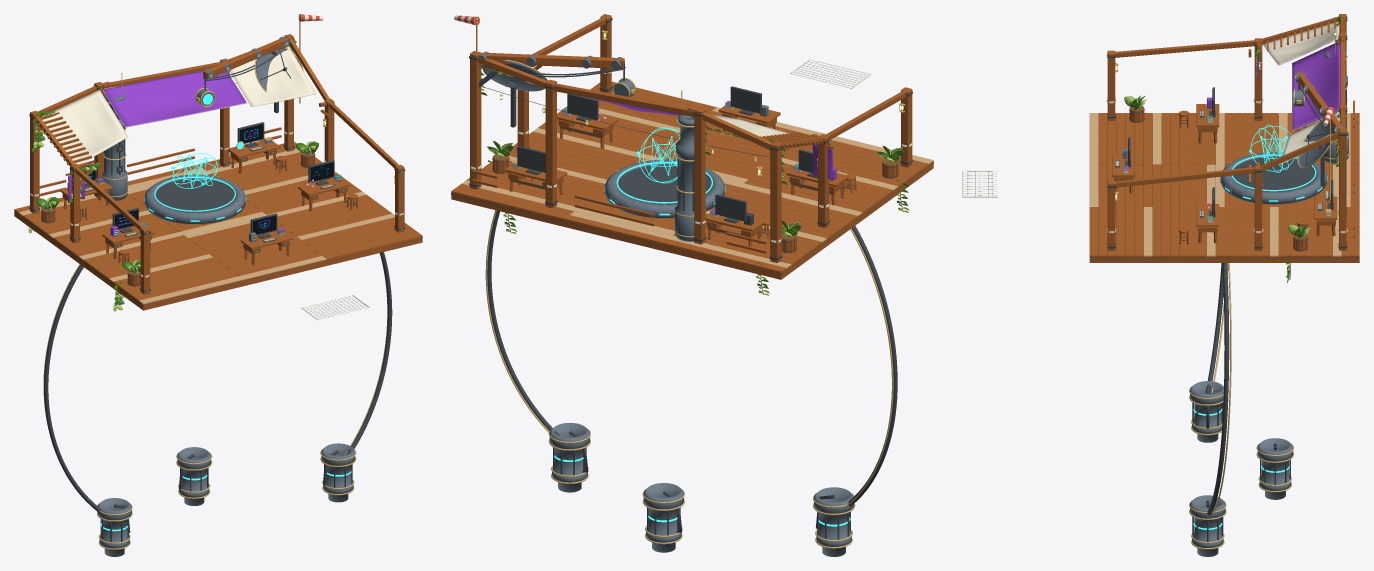
File: suspended-lab-v1-batched.glb
3 renders of one model, left to right at view 1: azimuth 30°, elevation 25°; view 2: azimuth 150°, elevation 25°; view 3: azimuth 270°, elevation 25°, orthographic. The views are drawn at different scales.
Visible parts, largest first — view 1: Batched_35_SuspendedLab_PBR_Honey_Timber, Batched_31_SuspendedLab_PBR_Cream_Linen, Batched_36_SuspendedLab_PBR_Pale_Cut_Timber, Batched_30_SuspendedLab_PBR_Violet_Cloth, Batched_41_SuspendedLab_PBR_Tempered_Silver, Batched_13_SuspendedLab_PBR_Dark_Iron, Batched_37_SuspendedLab_PBR_Dark_Iron, Batched_15_SuspendedLab_PBR_Honey_Timber, Batched_14_SuspendedLab_PBR_Tempered_Silver, Batched_29_SuspendedLab_PBR_Honey_Timber, Batched_34_SuspendedLab_PBR_Brass, Batched_19_SuspendedLab_PBR_Screen_Atlas (+7 smaller); view 2: Batched_35_SuspendedLab_PBR_Honey_Timber, Batched_41_SuspendedLab_PBR_Tempered_Silver, Batched_13_SuspendedLab_PBR_Dark_Iron, Batched_36_SuspendedLab_PBR_Pale_Cut_Timber, Batched_37_SuspendedLab_PBR_Dark_Iron, Batched_14_SuspendedLab_PBR_Tempered_Silver, Batched_15_SuspendedLab_PBR_Honey_Timber, Batched_34_SuspendedLab_PBR_Brass, Batched_29_SuspendedLab_PBR_Honey_Timber, Batched_27_SuspendedLab_PBR_Tempered_Silver, Batched_12_SuspendedLab_PBR_Cyan_Light, Batched_0_SuspendedLab_PBR_Cream_Linen (+6 smaller); view 3: Batched_35_SuspendedLab_PBR_Honey_Timber, Batched_36_SuspendedLab_PBR_Pale_Cut_Timber, Batched_41_SuspendedLab_PBR_Tempered_Silver, Batched_37_SuspendedLab_PBR_Dark_Iron, Batched_15_SuspendedLab_PBR_Honey_Timber, Batched_30_SuspendedLab_PBR_Violet_Cloth, Batched_13_SuspendedLab_PBR_Dark_Iron, Batched_31_SuspendedLab_PBR_Cream_Linen, Batched_14_SuspendedLab_PBR_Tempered_Silver, Batched_39_SuspendedLab_PBR_Dark_Joinery, Batched_34_SuspendedLab_PBR_Brass, Batched_12_SuspendedLab_PBR_Cyan_Light (+3 smaller).
Part boxes in pixels (bbox=[...]): Batched_35_SuspendedLab_PBR_Honey_Timber: bbox=[14, 34, 422, 310]; Batched_31_SuspendedLab_PBR_Cream_Linen: bbox=[42, 14, 323, 164]; Batched_36_SuspendedLab_PBR_Pale_Cut_Timber: bbox=[18, 148, 394, 304]; Batched_30_SuspendedLab_PBR_Violet_Cloth: bbox=[103, 70, 246, 126]; Batched_41_SuspendedLab_PBR_Tempered_Silver: bbox=[97, 443, 355, 556]; Batched_13_SuspendedLab_PBR_Dark_Iron: bbox=[67, 114, 356, 261]; Batched_37_SuspendedLab_PBR_Dark_Iron: bbox=[29, 38, 405, 542]; Batched_15_SuspendedLab_PBR_Honey_Timber: bbox=[60, 140, 358, 265]; Batched_14_SuspendedLab_PBR_Tempered_Silver: bbox=[102, 94, 337, 242]; Batched_29_SuspendedLab_PBR_Honey_Timber: bbox=[34, 36, 326, 168]; Batched_34_SuspendedLab_PBR_Brass: bbox=[36, 88, 402, 549]; Batched_19_SuspendedLab_PBR_Screen_Atlas: bbox=[85, 124, 333, 234]; Batched_35_SuspendedLab_PBR_Honey_Timber: bbox=[451, 14, 933, 279]; Batched_41_SuspendedLab_PBR_Tempered_Silver: bbox=[549, 423, 854, 556]; Batched_13_SuspendedLab_PBR_Dark_Iron: bbox=[517, 86, 854, 233]; Batched_36_SuspendedLab_PBR_Pale_Cut_Timber: bbox=[461, 107, 933, 268]; Batched_37_SuspendedLab_PBR_Dark_Iron: bbox=[469, 18, 912, 539]; Batched_14_SuspendedLab_PBR_Tempered_Silver: bbox=[531, 105, 768, 241]; Batched_15_SuspendedLab_PBR_Honey_Timber: bbox=[505, 105, 856, 246]; Batched_34_SuspendedLab_PBR_Brass: bbox=[485, 210, 893, 548]; Batched_29_SuspendedLab_PBR_Honey_Timber: bbox=[478, 52, 826, 147]; Batched_27_SuspendedLab_PBR_Tempered_Silver: bbox=[478, 51, 634, 96]; Batched_12_SuspendedLab_PBR_Cyan_Light: bbox=[604, 127, 725, 215]; Batched_0_SuspendedLab_PBR_Cream_Linen: bbox=[790, 59, 871, 88]; Batched_35_SuspendedLab_PBR_Honey_Timber: bbox=[1089, 14, 1359, 262]; Batched_36_SuspendedLab_PBR_Pale_Cut_Timber: bbox=[1089, 113, 1350, 256]; Batched_41_SuspendedLab_PBR_Tempered_Silver: bbox=[1190, 381, 1293, 556]; Batched_37_SuspendedLab_PBR_Dark_Iron: bbox=[1107, 16, 1347, 541]; Batched_15_SuspendedLab_PBR_Honey_Timber: bbox=[1112, 104, 1337, 244]; Batched_30_SuspendedLab_PBR_Violet_Cloth: bbox=[1292, 41, 1340, 130]; Batched_13_SuspendedLab_PBR_Dark_Iron: bbox=[1115, 86, 1346, 240]; Batched_31_SuspendedLab_PBR_Cream_Linen: bbox=[1262, 21, 1340, 165]; Batched_14_SuspendedLab_PBR_Tempered_Silver: bbox=[1115, 50, 1348, 218]; Batched_39_SuspendedLab_PBR_Dark_Joinery: bbox=[1089, 116, 1359, 259]; Batched_34_SuspendedLab_PBR_Brass: bbox=[1106, 37, 1338, 549]; Batched_12_SuspendedLab_PBR_Cyan_Light: bbox=[1206, 100, 1327, 201].
Size of the model in its own units: 24.88 by 29.82 by 23.55.
22 materials, 4 textured.
